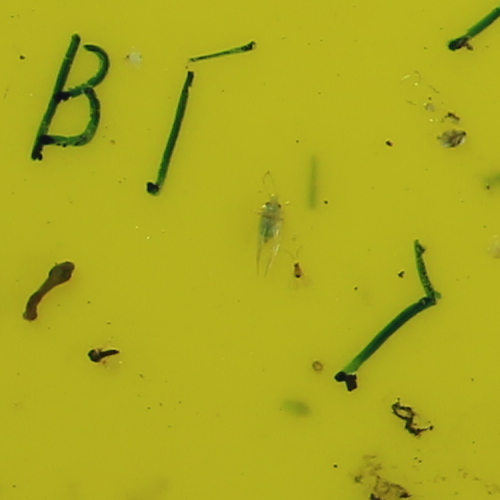psylla: (253, 191, 285, 243)
